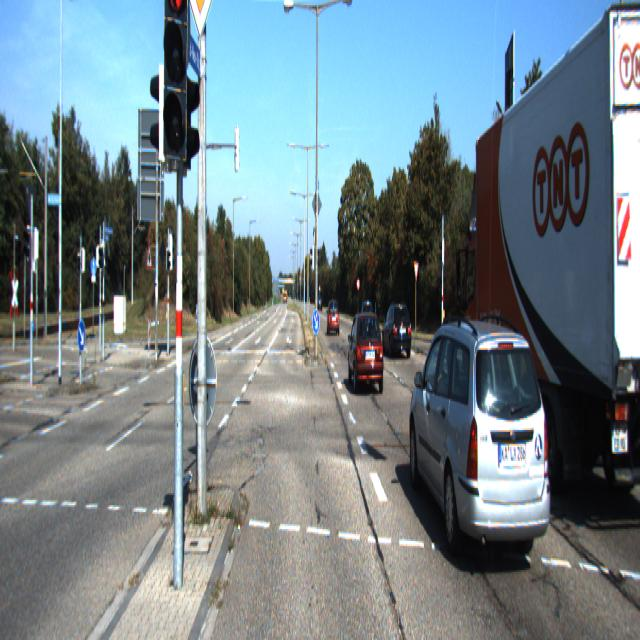Car: (408, 314, 556, 592), (348, 310, 384, 397), (381, 300, 412, 360), (326, 300, 339, 336)
DontCare: (315, 292, 322, 311)
Truck: (456, 0, 640, 550)
